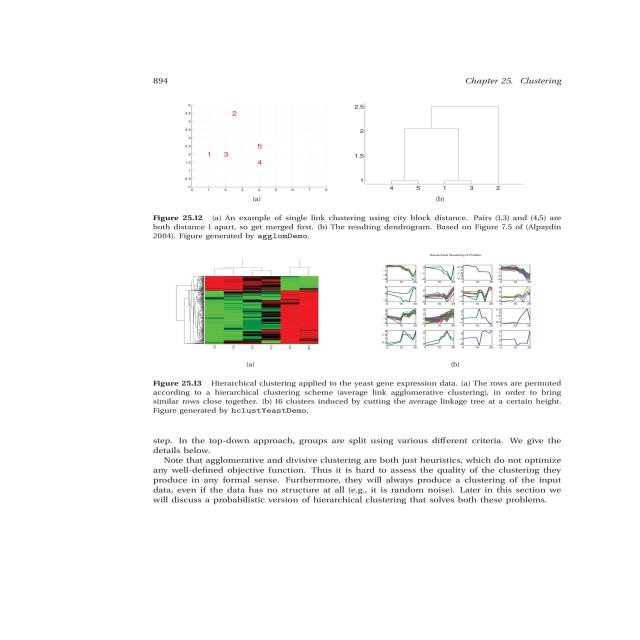diagram: (88, 90, 640, 420)
